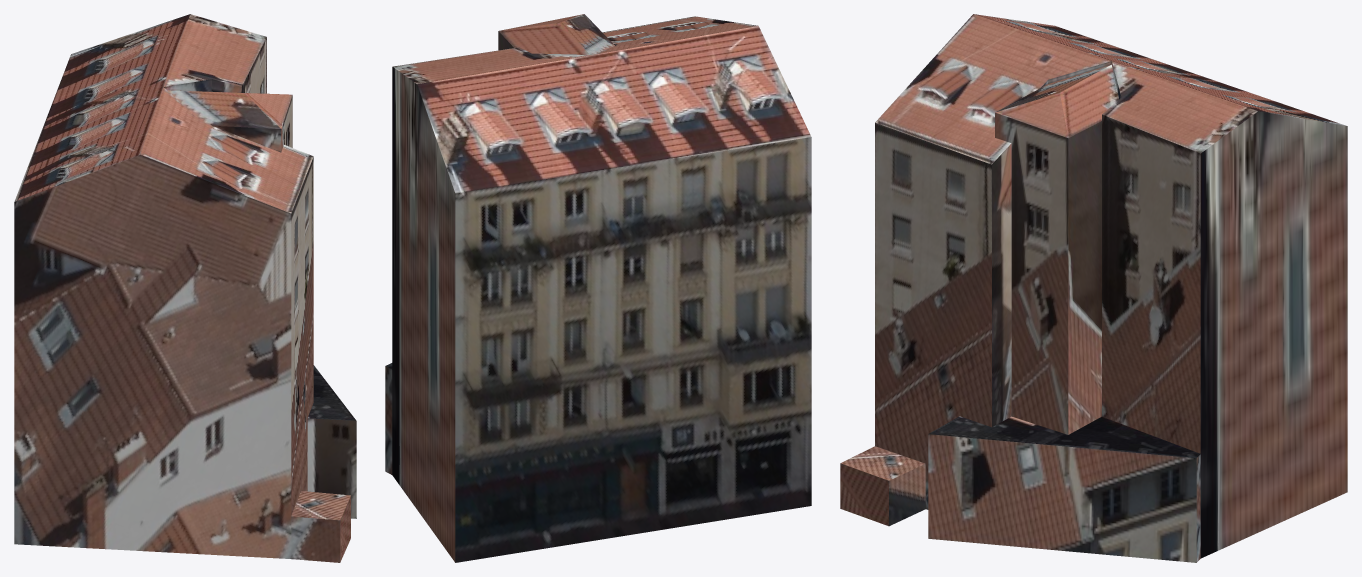
The picture shows the model from 3 angles, left to right: view 1: azimuth 30°, elevation 25°; view 2: azimuth 150°, elevation 25°; view 3: azimuth 270°, elevation 25°; orthographic projection. The views are drawn at different scales.
Parts seen in each view (by area): view 1: Z_UP; view 2: Z_UP; view 3: Z_UP.
Part boxes in pixels (x1,y1,x2,y2): Z_UP: (14,14,356,562); Z_UP: (385,14,811,562); Z_UP: (840,14,1347,562).
Size of the model in its own units: 19.53 by 22.46 by 24.41.
2 materials, 1 textured.
